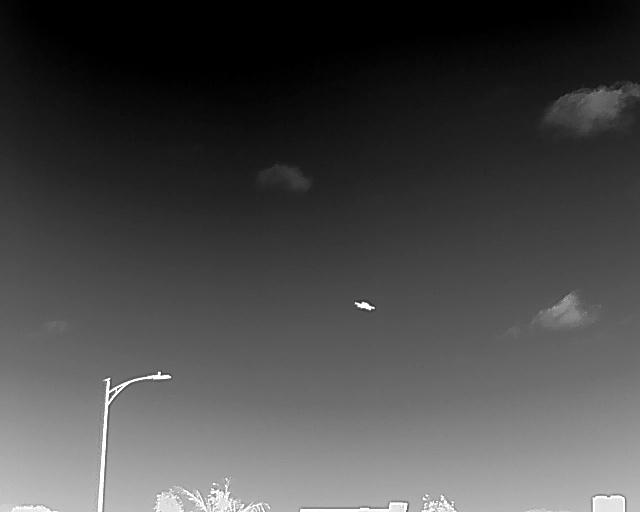fpv-drone: (354, 301, 375, 310)
